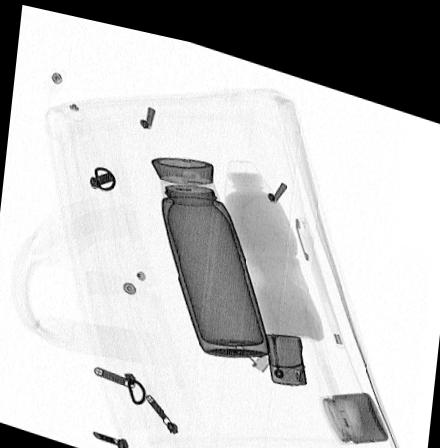Lighter: (264, 321, 307, 372)
